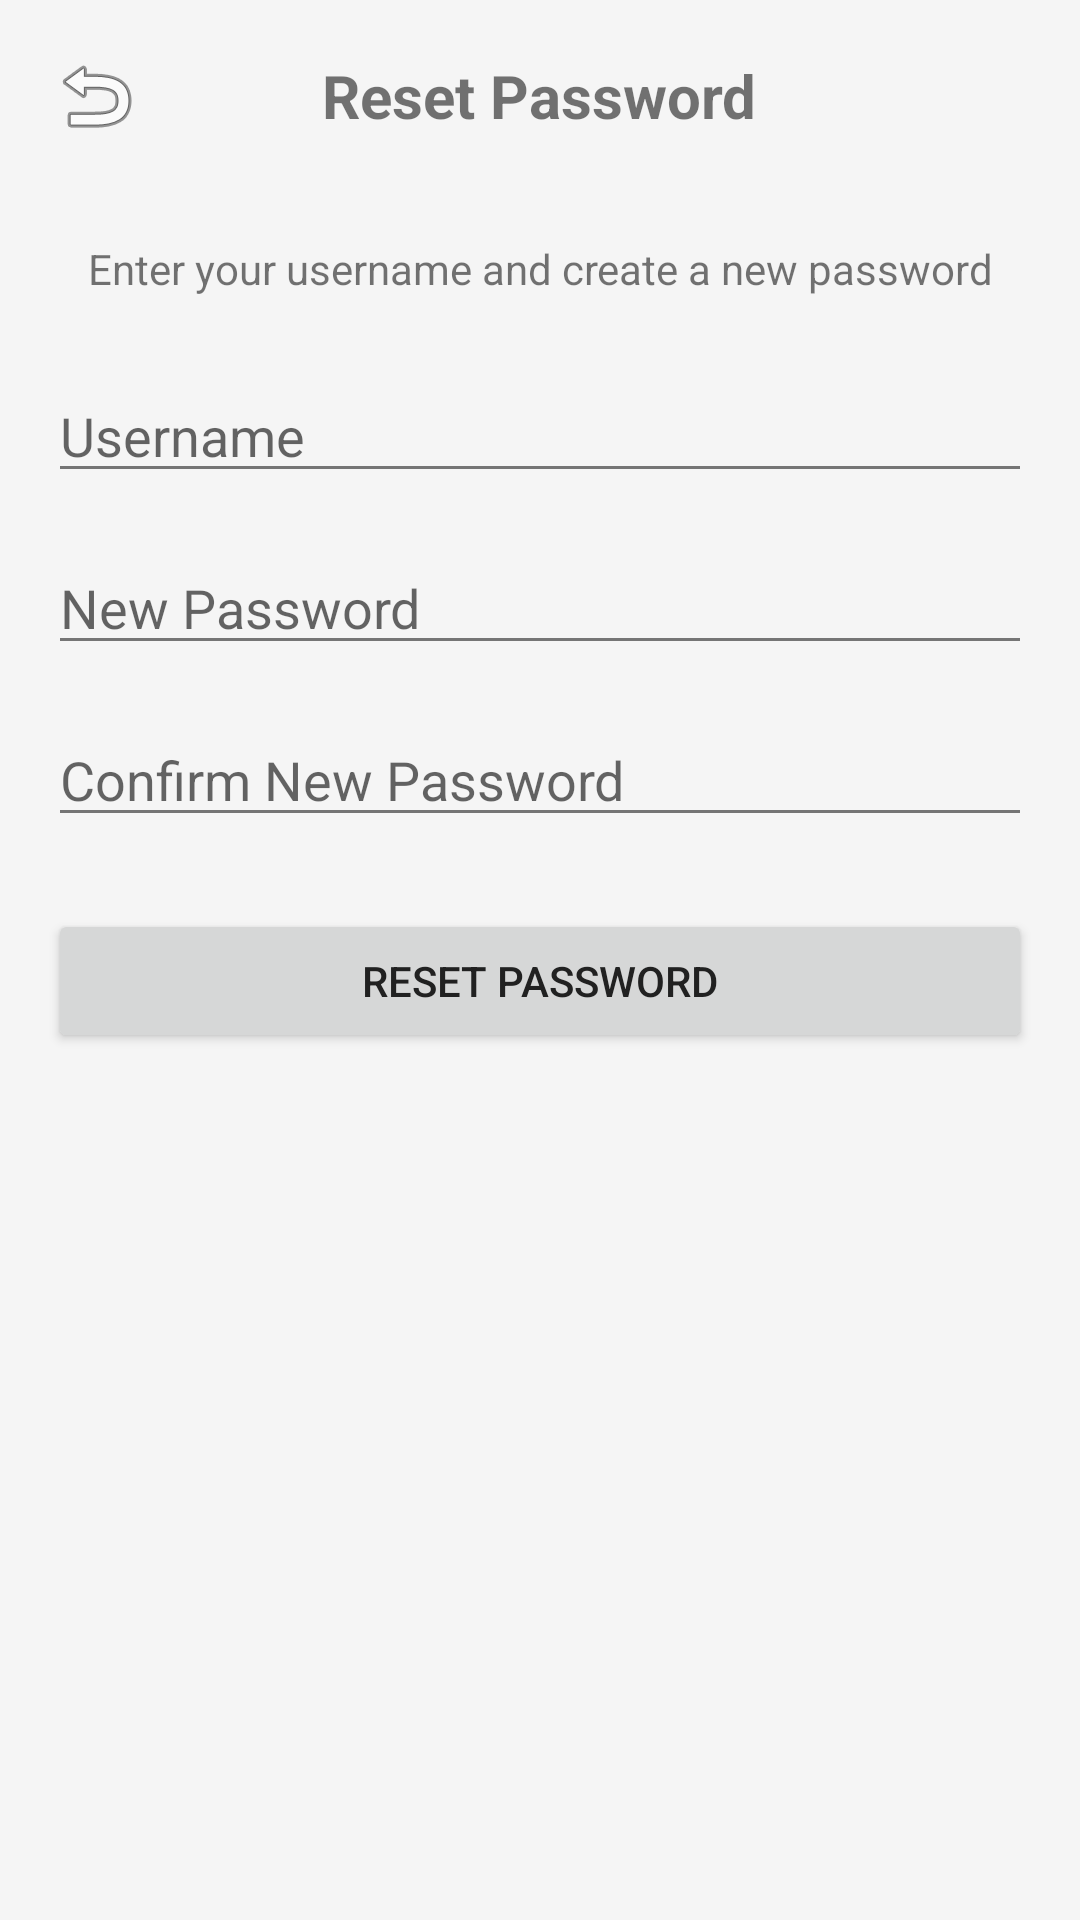

Screen size 1080px×1920px. Icon name, then its center in pixels as point (x, y):
Nyuma: point (97, 96)
